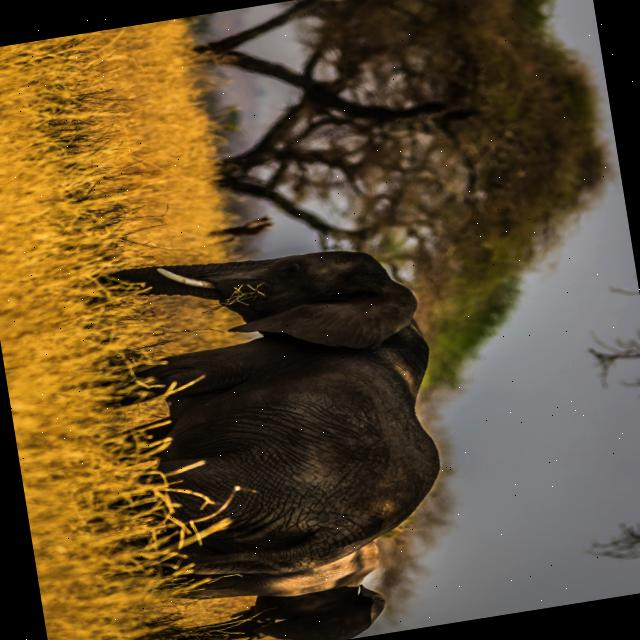Elephant: (64, 224, 460, 598), (95, 439, 392, 640)
